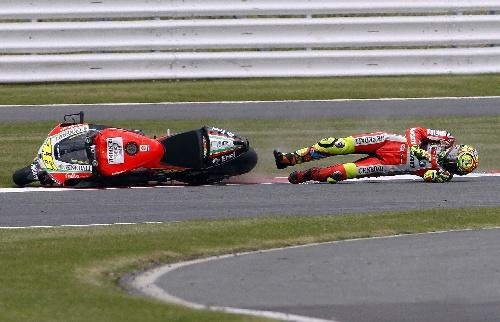falling: (267, 106, 484, 189)
